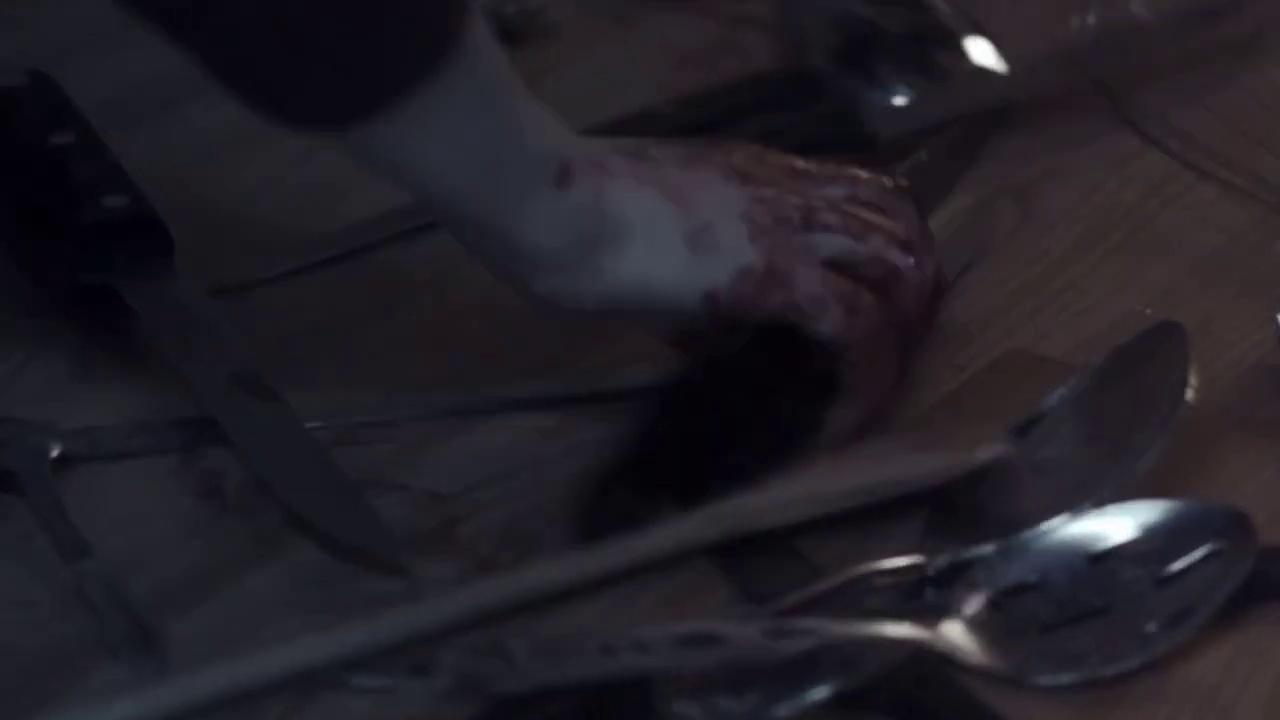Fire: (549, 135, 941, 438)
